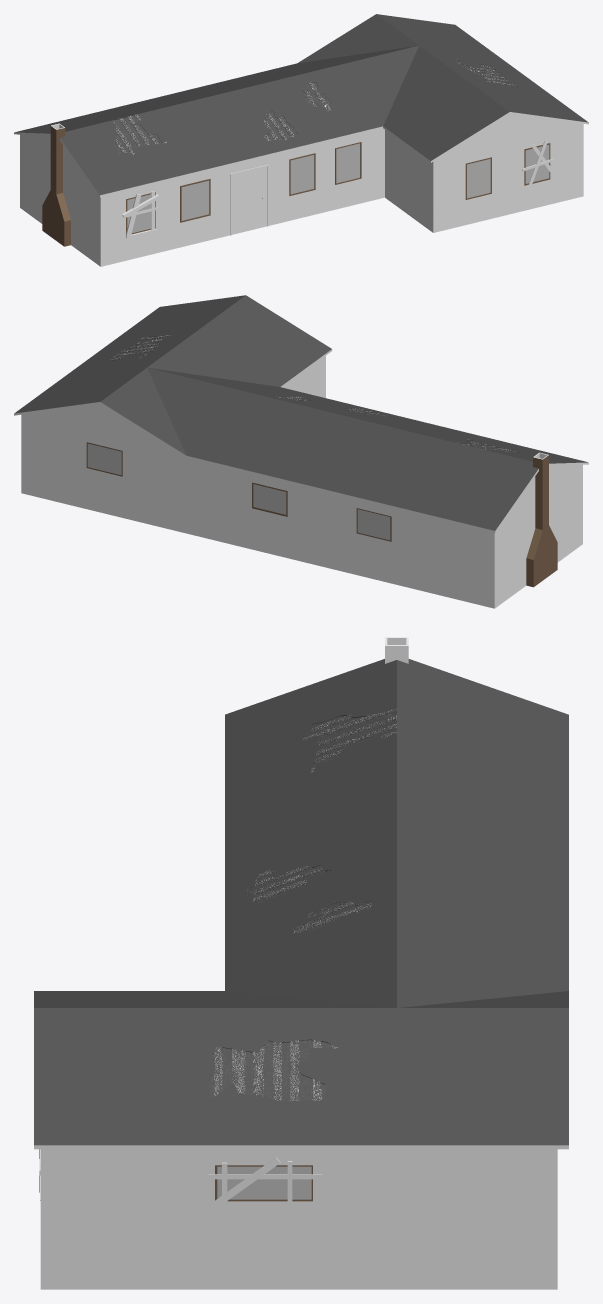
File: zombie-house.glb
The picture shows the model from 3 angles, top to bottom: view 1: azimuth 30°, elevation 25°; view 2: azimuth 150°, elevation 25°; view 3: azimuth 270°, elevation 25°; orthographic projection. The views are drawn at different scales.
Parts seen in each view (by area): view 1: SketchUp.003, SketchUp.002, SketchUp.005, SketchUp.022, SketchUp, SketchUp.016, SketchUp.007, SketchUp.008, SketchUp.021, SketchUp.014, SketchUp.191, SketchUp.033 (+1 smaller); view 2: SketchUp.003, SketchUp.002, SketchUp.022, SketchUp, SketchUp.168, SketchUp.166, SketchUp.167, SketchUp.191; view 3: SketchUp.003, SketchUp.002, SketchUp.191, SketchUp, SketchUp.186, SketchUp.048.
Boxes of the visible parts, x1,y1,x2,y2 form: SketchUp.003: [15, 14, 588, 195]; SketchUp.002: [20, 113, 583, 266]; SketchUp.005: [232, 166, 267, 234]; SketchUp.022: [42, 126, 70, 246]; SketchUp: [14, 112, 588, 197]; SketchUp.016: [181, 180, 209, 220]; SketchUp.007: [336, 143, 360, 183]; SketchUp.008: [290, 155, 314, 194]; SketchUp.021: [467, 159, 490, 198]; SketchUp.014: [127, 194, 150, 233]; SketchUp.191: [456, 59, 517, 86]; SketchUp.033: [122, 194, 158, 236]; SketchUp.003: [14, 295, 587, 530]; SketchUp.002: [21, 356, 582, 608]; SketchUp.022: [526, 455, 557, 587]; SketchUp: [14, 349, 588, 532]; SketchUp.168: [87, 443, 121, 475]; SketchUp.166: [357, 509, 390, 540]; SketchUp.167: [253, 484, 286, 514]; SketchUp.191: [109, 334, 170, 360]; SketchUp.003: [34, 659, 568, 1145]; SketchUp.002: [40, 1149, 557, 1289]; SketchUp.191: [209, 1039, 339, 1100]; SketchUp: [34, 1145, 568, 1149]; SketchUp.186: [247, 865, 330, 903]; SketchUp.048: [229, 1179, 287, 1199].
Size of the model in its own units: 13.95 by 3.33 by 7.26.
